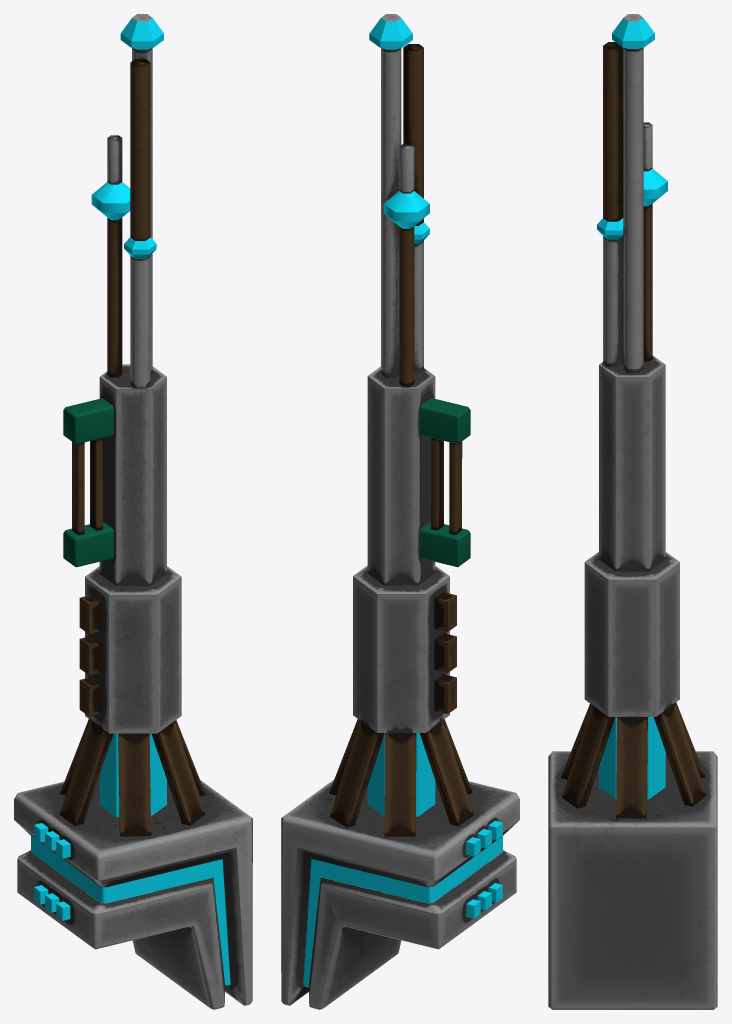
Rendered from SM_Props_37.fbx.
3 renders of one model, left to right at view 1: azimuth 30°, elevation 25°; view 2: azimuth 150°, elevation 25°; view 3: azimuth 270°, elevation 25°, orthographic.
Parts seen in each view (by area): view 1: SM_Props_37; view 2: SM_Props_37; view 3: SM_Props_37.
Part boxes in pixels (left/top/right/bottom): SM_Props_37: left=14, top=14, right=252, bottom=1009; SM_Props_37: left=281, top=14, right=519, bottom=1009; SM_Props_37: left=548, top=14, right=717, bottom=1009.
Size of the model in its own units: 29.64 by 26.64 by 167.
